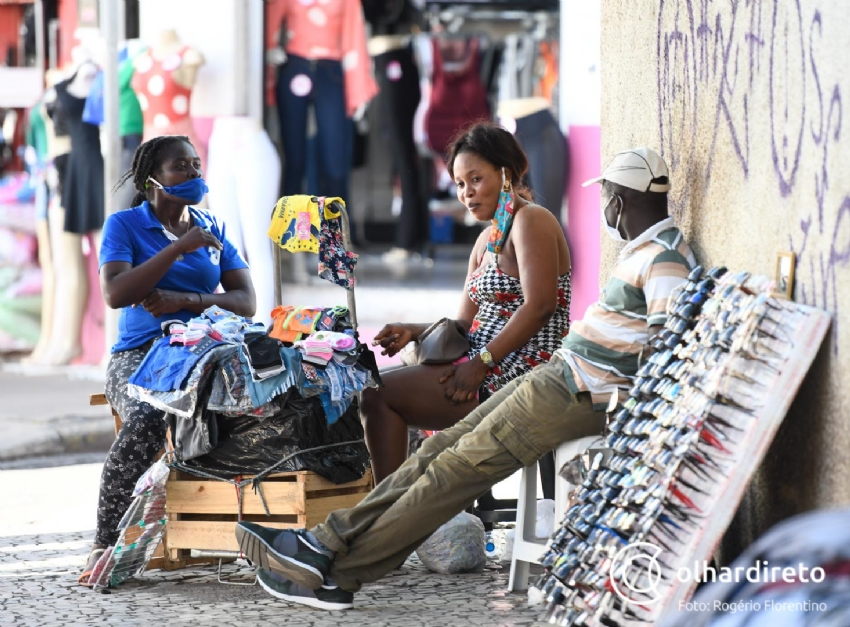mask_weared_incorrect: (446, 147, 515, 227), (137, 154, 209, 205)
